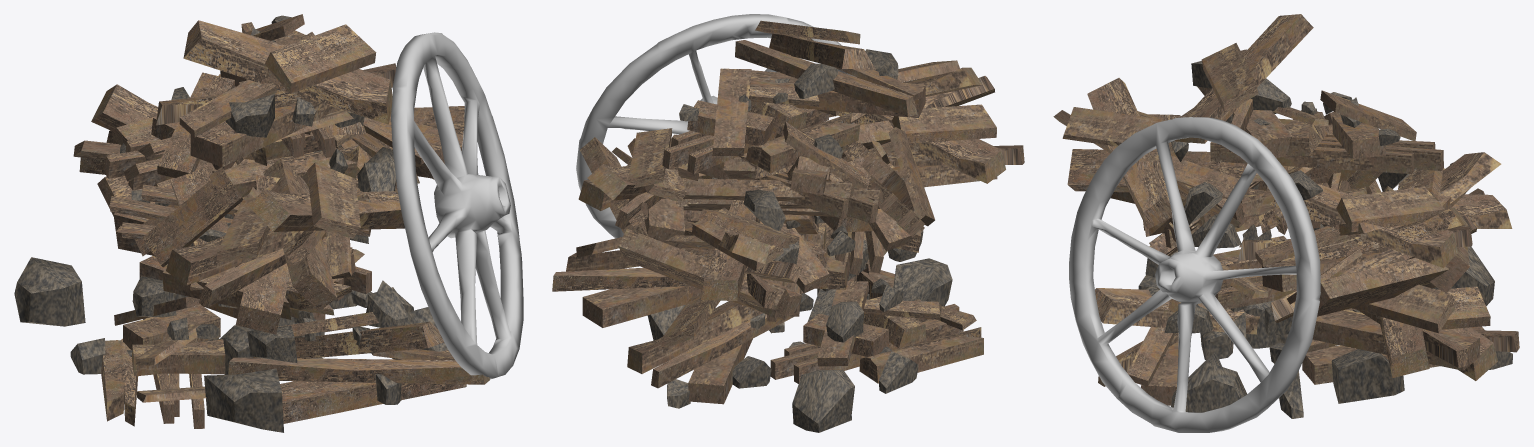
File: SM_Feixu_before.fbx
3 views of the same model, side by side, from view 1: azimuth 30°, elevation 25°; view 2: azimuth 150°, elevation 25°; view 3: azimuth 270°, elevation 25° (orthographic). The views are drawn at different scales.
Visible parts, largest first — view 1: SM_Feixu_before; view 2: SM_Feixu_before; view 3: SM_Feixu_before.
Boxes of the visible parts, <box> form: SM_Feixu_before: <box>14,14,523,432</box>; SM_Feixu_before: <box>552,14,1024,432</box>; SM_Feixu_before: <box>1053,14,1519,432</box>.
Bounding box in the file's own units: 187 × 144 × 193.
